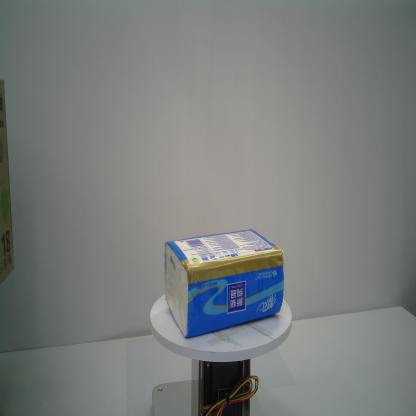Tissue: (163, 228, 286, 341)
